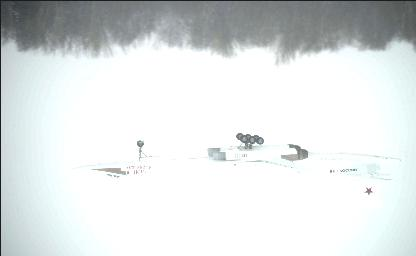Su34: (66, 132, 400, 206)
